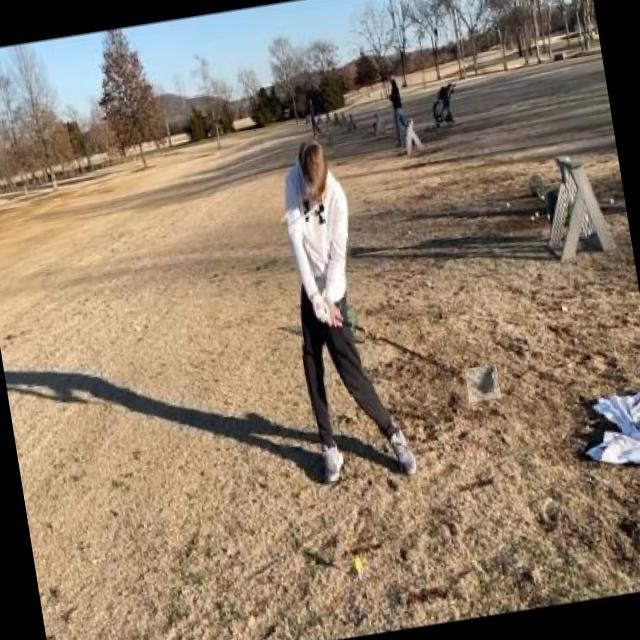club head: (464, 364, 502, 404)
